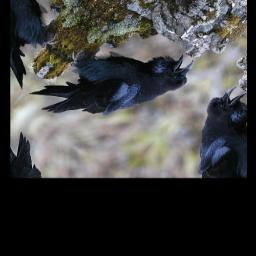Crow: (23, 5, 203, 159)
